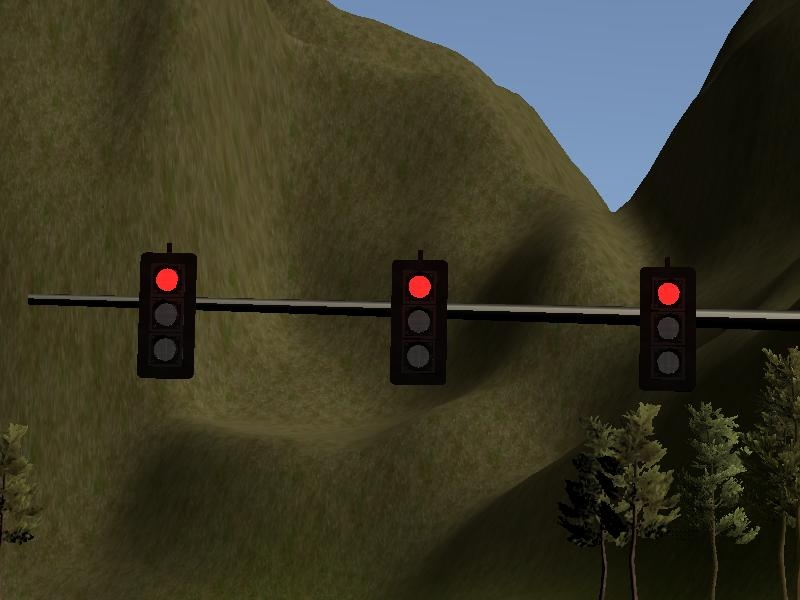RED: (137, 252, 196, 377), (390, 259, 449, 384), (637, 263, 696, 388)
